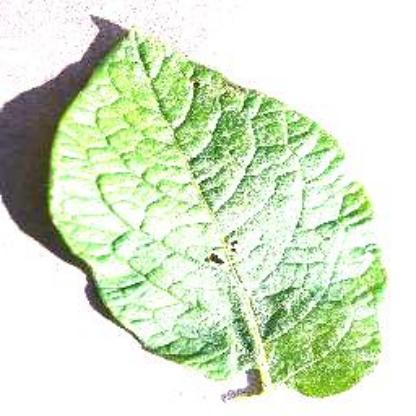Healthy-plant: (44, 25, 388, 398)
